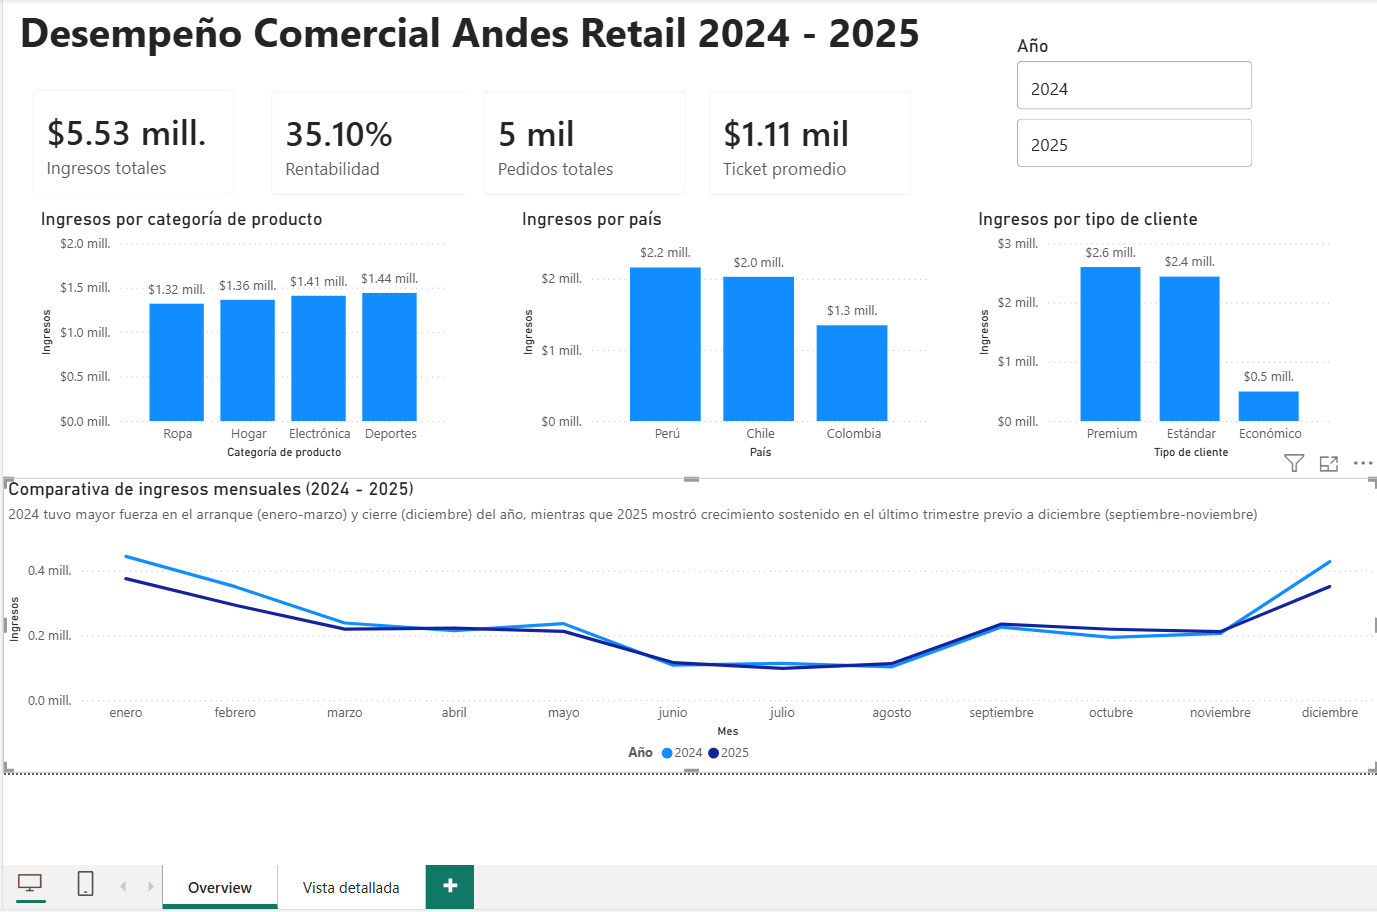

The dashboard page shown, as its layout file describes it:
{"tool":"powerbi","page":{"name":"Overview","canvas":[1280,720],"ordinal":0},"visuals":[{"type":"textbox","box":[10.5,0,860.5,68.6],"z":0},{"type":"cardVisual","fields":{"Data":["Sum(Andes_Retail_Group_2024_2025.Ingresos)"]},"box":[10.5,67.4,222.1,131.4],"z":1000},{"type":"cardVisual","fields":{"Data":["Andes_Retail_Group_2024_2025.Rentabilidad"]},"box":[232.6,68.6,222.1,131.4],"z":2000},{"type":"cardVisual","fields":{"Data":["Andes_Retail_Group_2024_2025.Pedidos totales"]},"box":[430.2,68.6,222.1,131.4],"z":3000},{"type":"cardVisual","fields":{"Data":["Andes_Retail_Group_2024_2025.Ticket promedio"]},"box":[639.5,68.6,222.1,131.4],"z":4000},{"type":"lineChart","title":"Comparativa de ingresos mensuales (2024 - 2025)","fields":{"Y":["Sum(Andes_Retail_Group_2024_2025.Ingresos)"],"Category":["Andes_Retail_Group_2024_2025.Fecha_Pedido.Variación.Jerarquía de fechas.Mes"],"Series":["Andes_Retail_Group_2024_2025.Año"]},"box":[0,445.4,1280.2,274.4],"z":5000},{"type":"clusteredColumnChart","title":"Ingresos por categoría de producto","fields":{"Category":["Andes_Retail_Group_2024_2025.Categoría_Producto"],"Y":["Sum(Andes_Retail_Group_2024_2025.Ingresos)"]},"box":[30.2,194.2,388.4,238.4],"z":6000},{"type":"clusteredColumnChart","title":"Ingresos por país","fields":{"Category":["Andes_Retail_Group_2024_2025.País"],"Y":["Sum(Andes_Retail_Group_2024_2025.Ingresos)"]},"box":[477.9,194.2,388.4,238.4],"z":7000},{"type":"clusteredColumnChart","title":"Ingresos por tipo de cliente","fields":{"Category":["Andes_Retail_Group_2024_2025.Segmento_Cliente"],"Y":["Sum(Andes_Retail_Group_2024_2025.Ingresos)"]},"box":[902.3,194.2,340.7,238.4],"z":8000},{"type":"advancedSlicerVisual","fields":{"Values":["Andes_Retail_Group_2024_2025.Año"]},"box":[938.4,33.7,229.1,127.9],"z":9000}]}

Visuals, with their boxes on the page's 1280x720 design canvas (x1, y1, x2, y2). These are canvas units, not pixel positions in the 1377x912 screenshot, which may show the page scaled, cropped or inside an application window:
textbox: {"x1": 10, "y1": 0, "x2": 871, "y2": 69}
cardVisual - Sum(Andes_Retail_Group_2024_2025.Ingresos): {"x1": 10, "y1": 67, "x2": 233, "y2": 199}
cardVisual - Andes_Retail_Group_2024_2025.Rentabilidad: {"x1": 233, "y1": 69, "x2": 455, "y2": 200}
cardVisual - Andes_Retail_Group_2024_2025.Pedidos totales: {"x1": 430, "y1": 69, "x2": 652, "y2": 200}
cardVisual - Andes_Retail_Group_2024_2025.Ticket promedio: {"x1": 640, "y1": 69, "x2": 862, "y2": 200}
"Comparativa de ingresos mensuales (2024 - 2025)" lineChart: {"x1": 0, "y1": 445, "x2": 1280, "y2": 720}
"Ingresos por categoría de producto" clusteredColumnChart: {"x1": 30, "y1": 194, "x2": 419, "y2": 433}
"Ingresos por país" clusteredColumnChart: {"x1": 478, "y1": 194, "x2": 866, "y2": 433}
"Ingresos por tipo de cliente" clusteredColumnChart: {"x1": 902, "y1": 194, "x2": 1243, "y2": 433}
advancedSlicerVisual - Andes_Retail_Group_2024_2025.Año: {"x1": 938, "y1": 34, "x2": 1168, "y2": 162}
